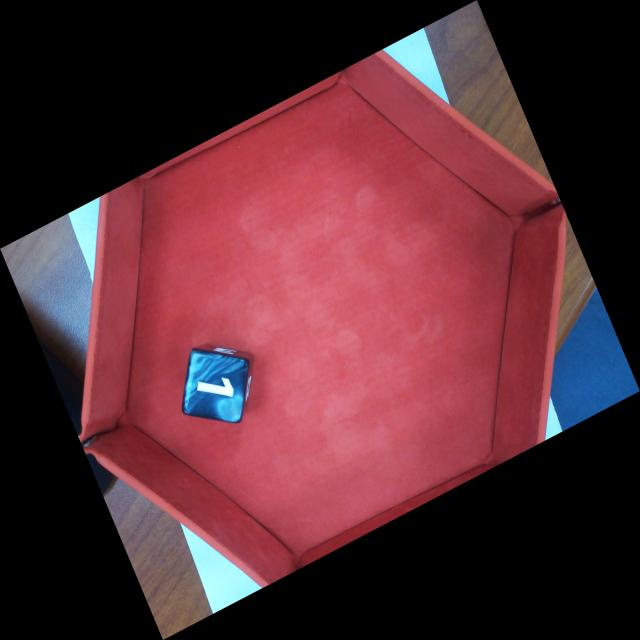dice: (182, 349, 250, 423)
